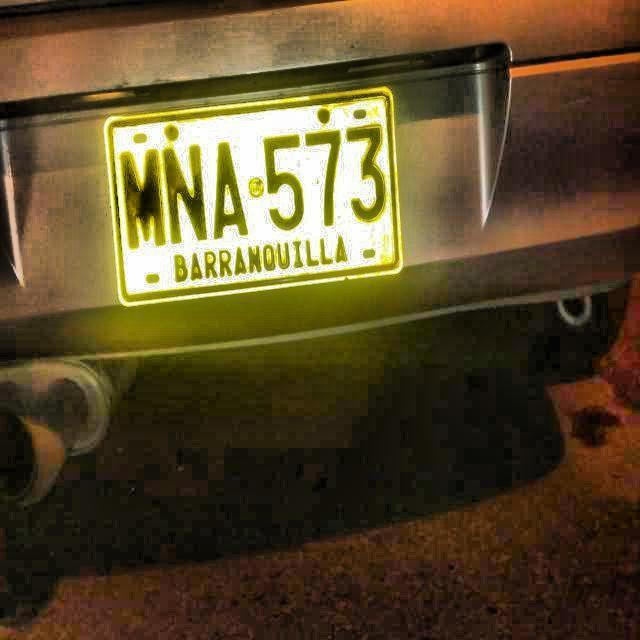plate: (109, 94, 398, 300)
